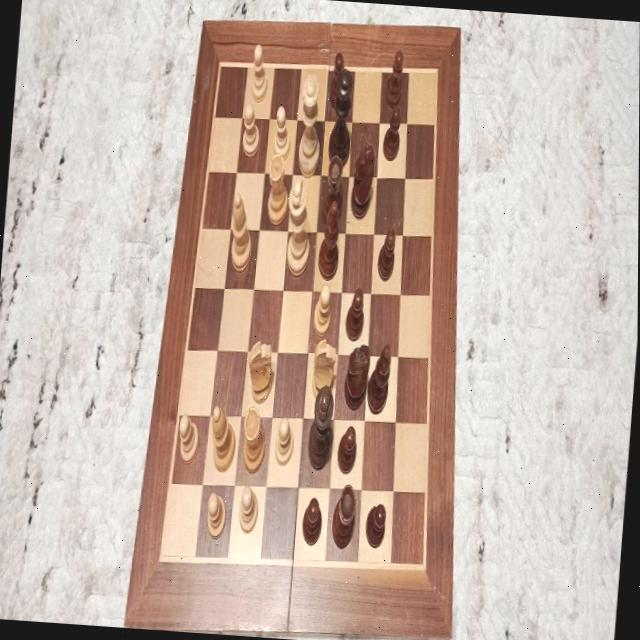black_bishop: (317, 193, 344, 279), (366, 340, 393, 412)
black_king: (306, 384, 335, 471)
black_knight: (349, 140, 377, 220), (344, 342, 371, 407)
black_pawn: (384, 47, 405, 109), (336, 423, 360, 473), (376, 227, 398, 281), (345, 285, 367, 339), (382, 104, 403, 158), (301, 495, 324, 544), (365, 501, 388, 547), (329, 52, 347, 108)
black_queen: (327, 68, 355, 168)
black_rook: (331, 483, 359, 548), (322, 151, 346, 223)
white_bishop: (227, 190, 256, 270), (208, 401, 238, 471)
white_king: (284, 175, 315, 274)
white_knight: (246, 338, 277, 405), (310, 336, 338, 401)
white_pawn: (176, 412, 201, 463), (313, 277, 334, 336), (240, 100, 262, 156), (271, 102, 292, 160), (250, 44, 270, 104), (205, 488, 229, 538), (274, 415, 296, 464), (238, 483, 259, 532)
white_queen: (295, 74, 325, 174)
white_rook: (265, 150, 291, 223), (241, 406, 267, 471)
